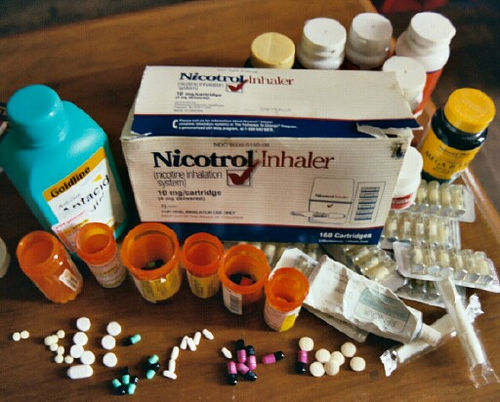pill bottle: (121, 220, 183, 304), (17, 231, 83, 304), (220, 243, 269, 318), (75, 221, 128, 290), (266, 266, 311, 335), (182, 232, 224, 299)
